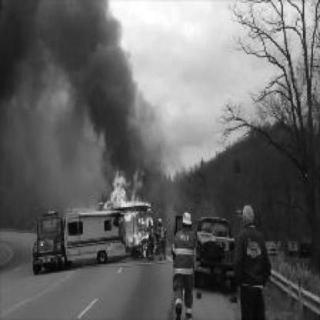Smoke: (4, 2, 158, 162)
